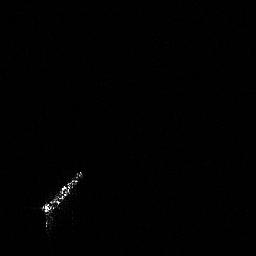ship: (37, 167, 85, 229)
